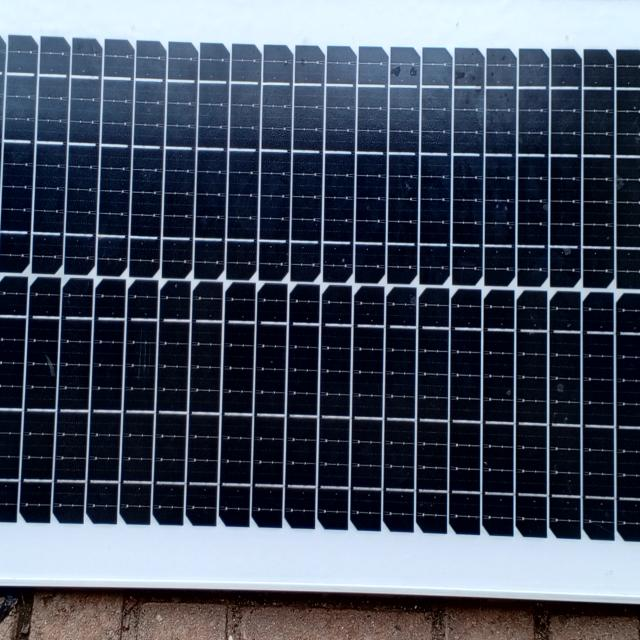Clean: (0, 9, 640, 569)
